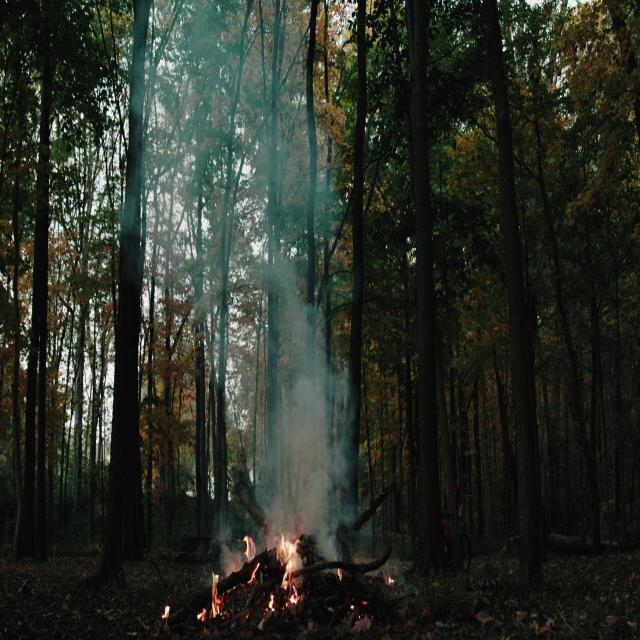Fire: (264, 524, 310, 616), (197, 565, 229, 627)
Smoke: (123, 2, 360, 548)
